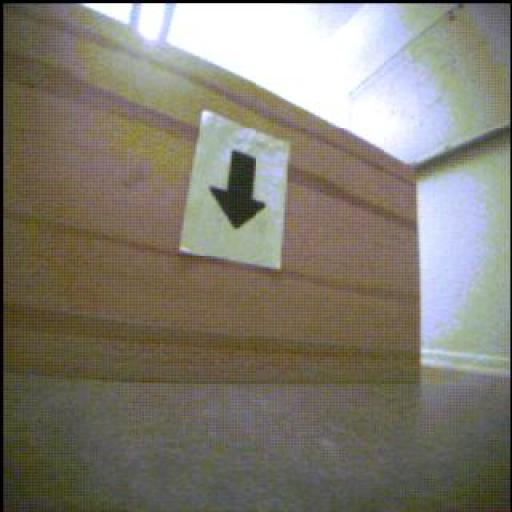arrow: (211, 151, 267, 230)
